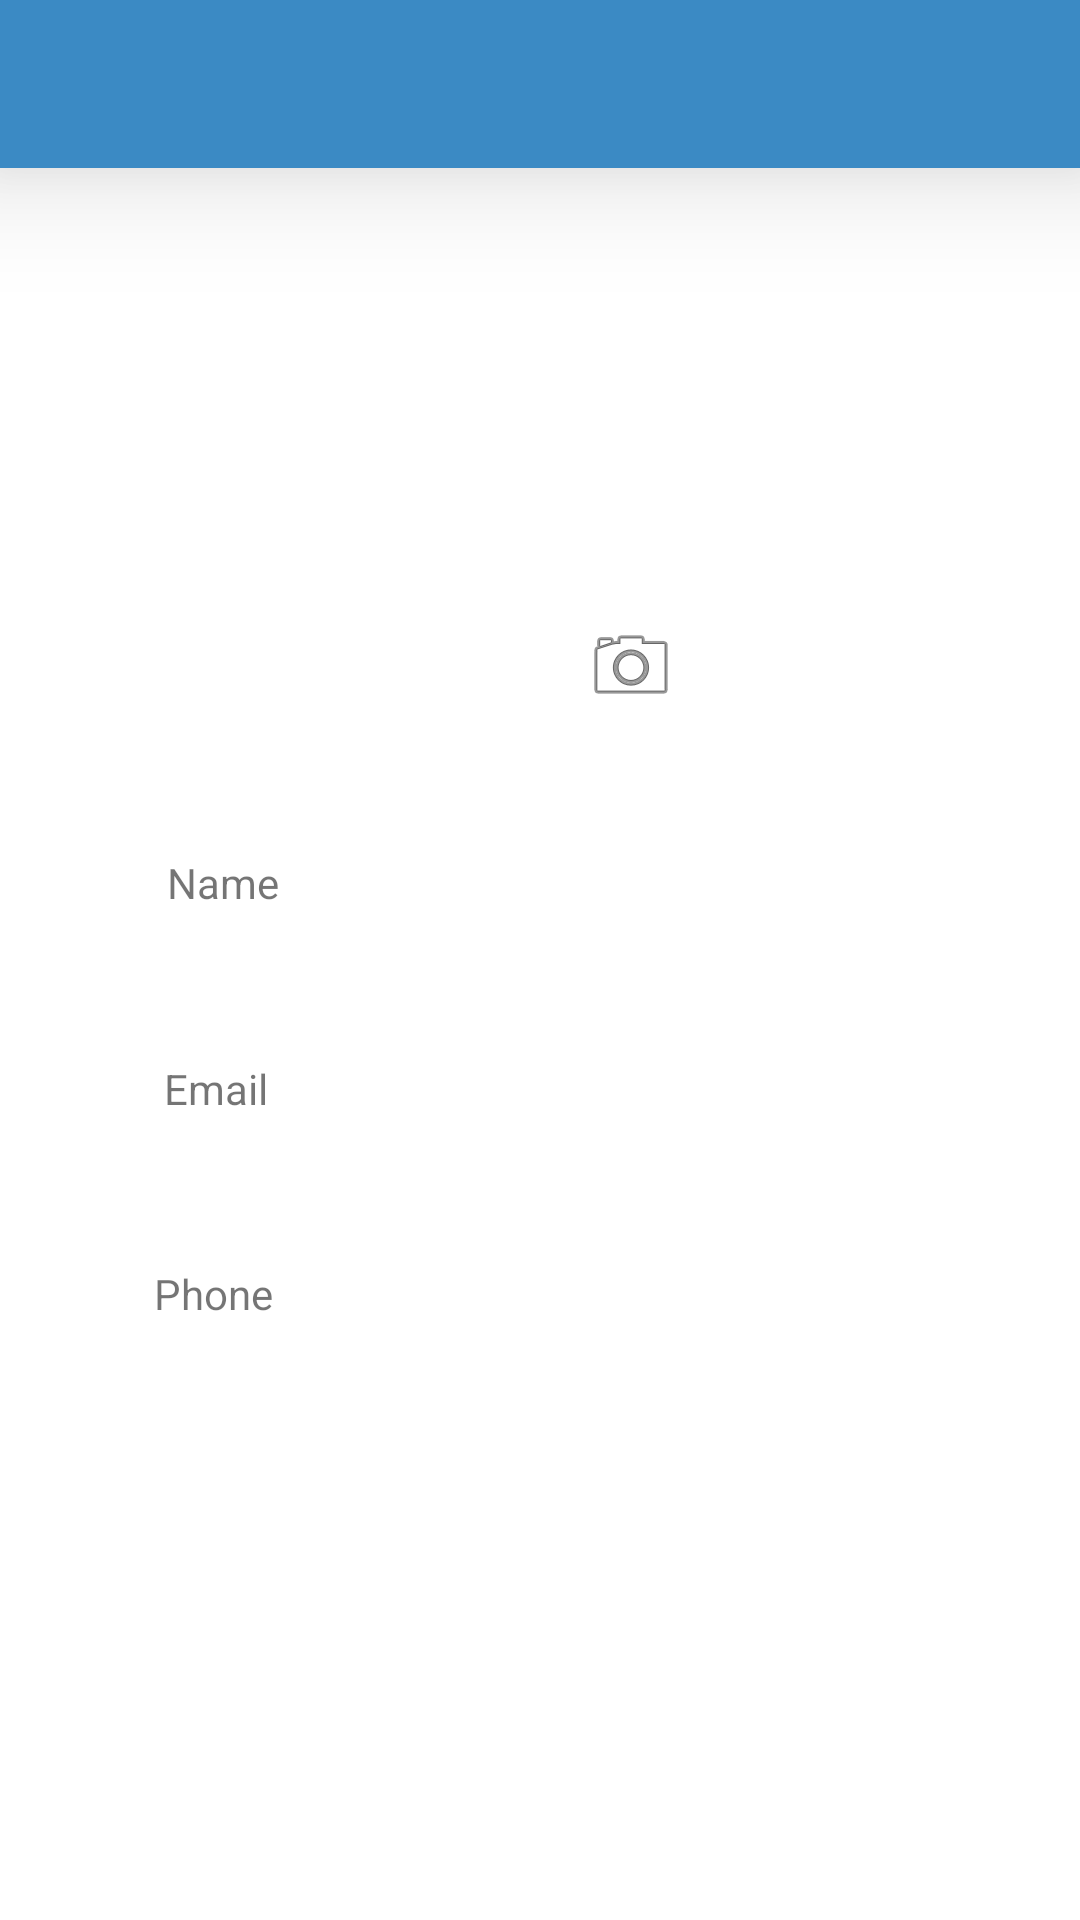

Locate icon controls on the screen. Image size 1080px×1920px, boxes as (x1, y1, x2, y2).
camera: (594, 635, 668, 694)
